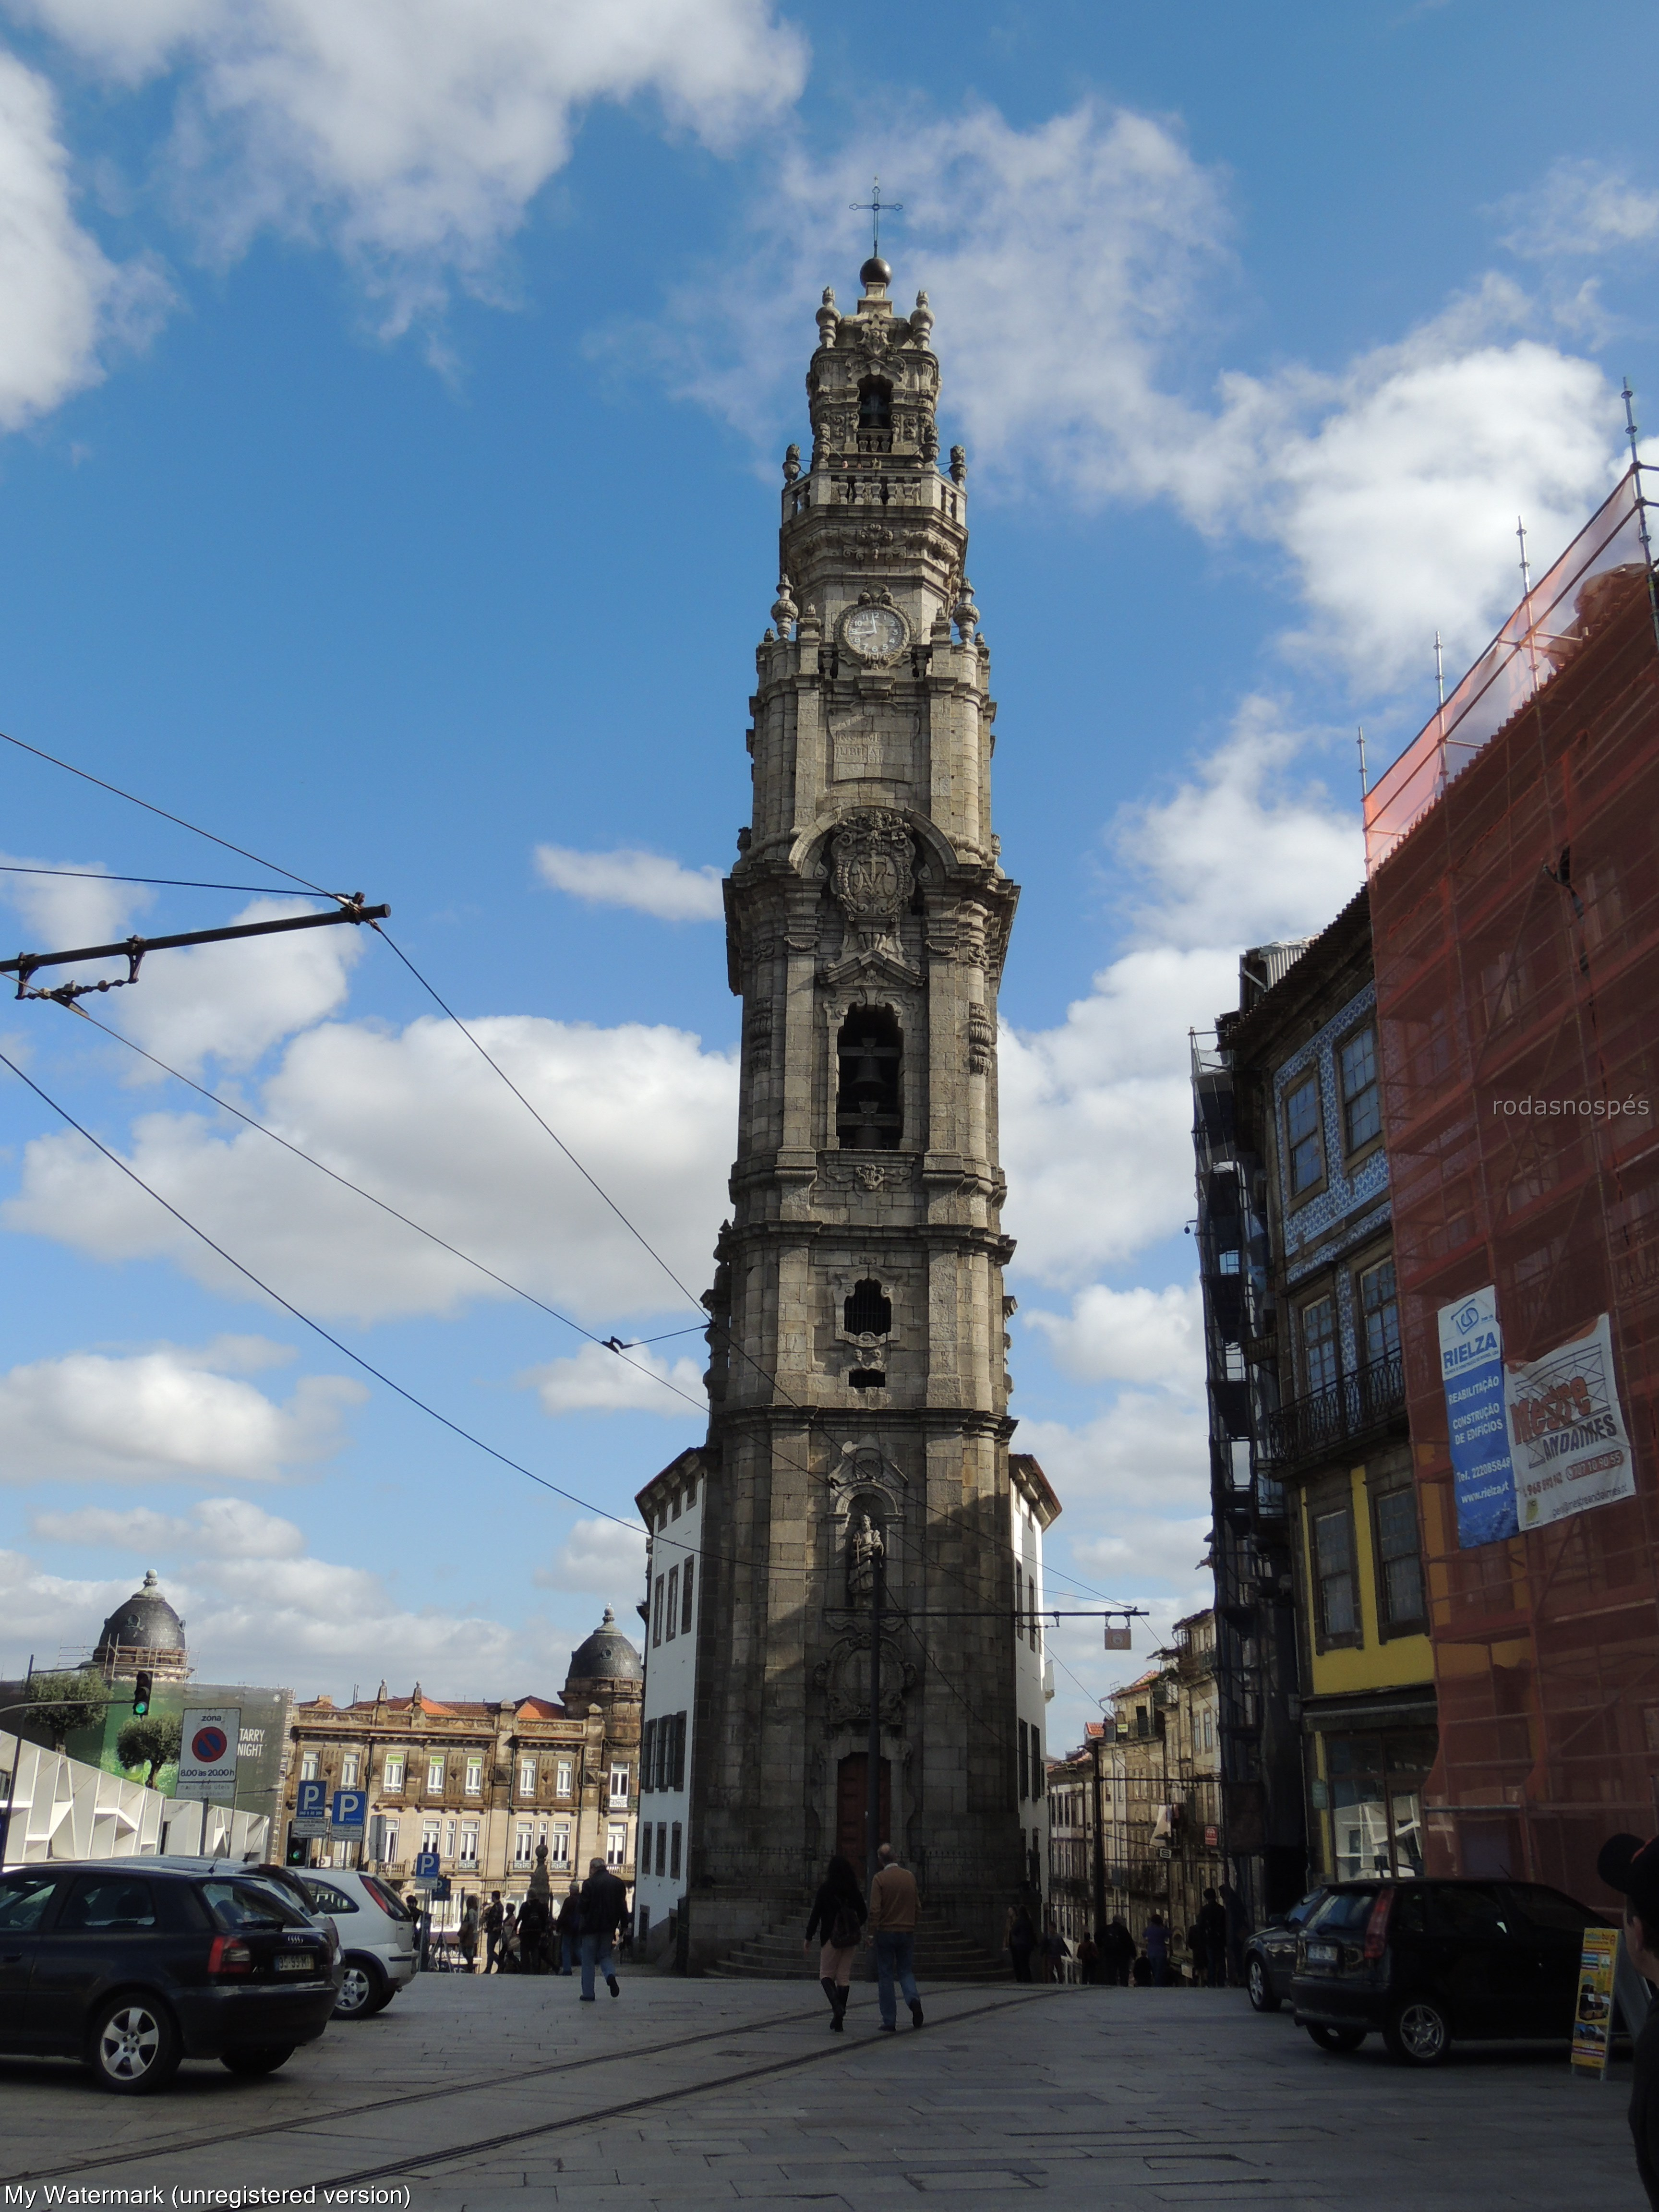clerigos: (697, 178, 1028, 1902)
